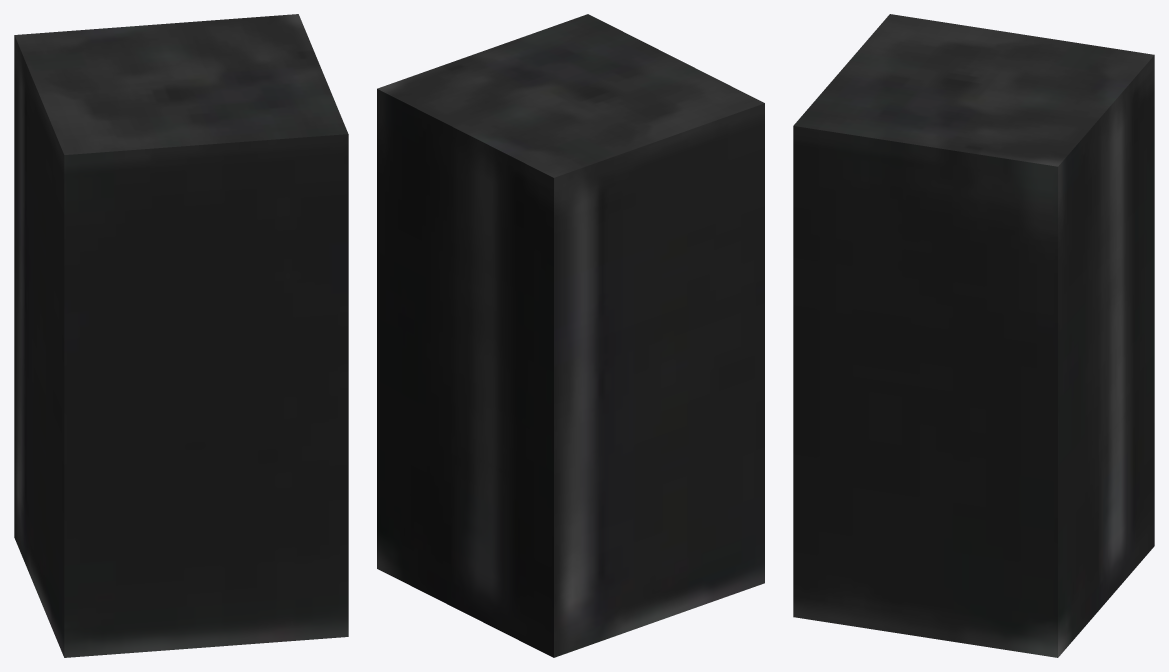
File: center_frame__rack_tooth_3.glb
3 views of the same model, side by side, from view 1: azimuth 30°, elevation 25°; view 2: azimuth 150°, elevation 25°; view 3: azimuth 270°, elevation 25° (orthographic). The views are drawn at different scales.
Visible parts, largest first — view 1: world; view 2: world; view 3: world.
Part boxes in pixels (<box>): world: <box>14,14,348,657</box>; world: <box>377,14,764,657</box>; world: <box>793,14,1154,657</box>.
Bounding box in the file's own units: 0.0333 × 0.05 × 0.0333.
Materials: 1 (1 with a texture image).
